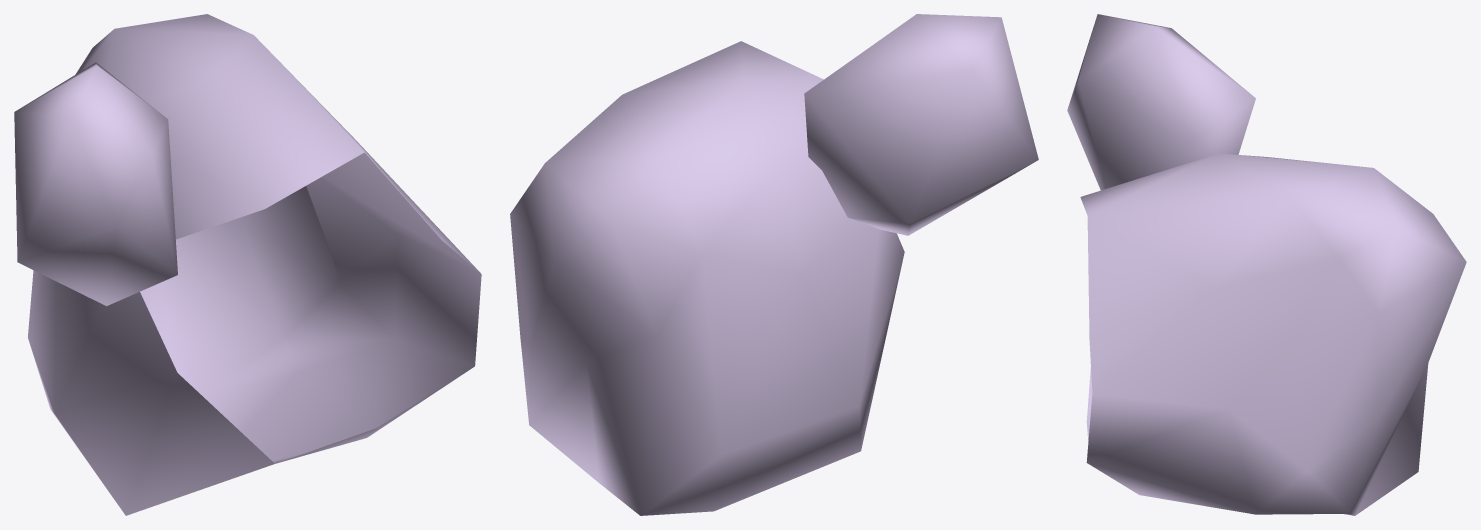
The picture shows the model from 3 angles, left to right: view 1: azimuth 30°, elevation 25°; view 2: azimuth 150°, elevation 25°; view 3: azimuth 270°, elevation 25°; orthographic projection. The views are drawn at different scales.
Parts seen in each view (by area): view 1: Object70; view 2: Object70; view 3: Object70.
Part boxes in pixels (x1,y1,x2,y2): Object70: [14, 14, 481, 515]; Object70: [510, 14, 1038, 515]; Object70: [1067, 14, 1466, 515].
Bounding box in the file's own units: 22409 × 22297 × 19887.
